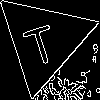T: (19, 15, 61, 68)
